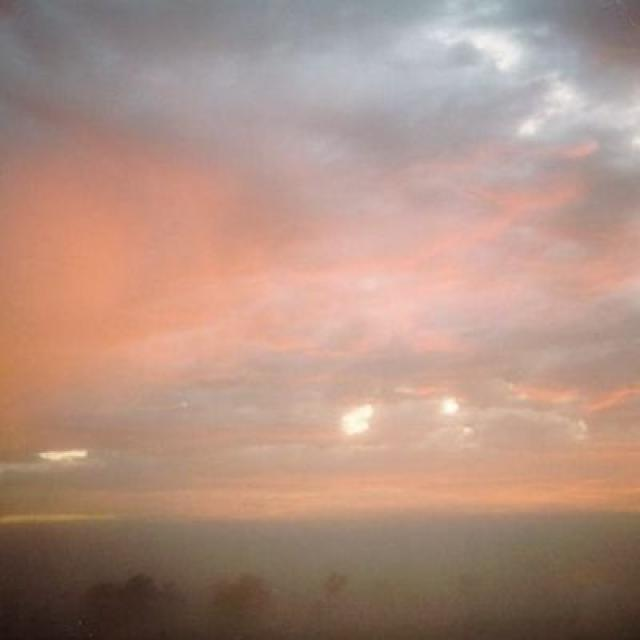Ac: (22, 27, 640, 420)
